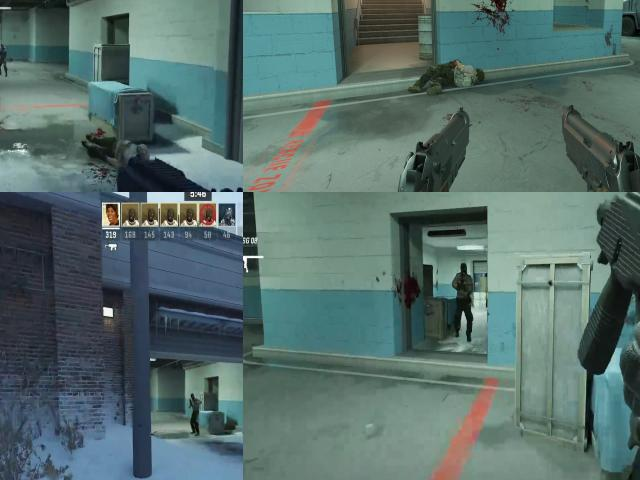Dead: (421, 59, 486, 90), (0, 42, 8, 69)
T: (455, 262, 471, 307), (189, 390, 200, 418)
T-Head: (458, 264, 469, 280), (190, 392, 197, 400)
